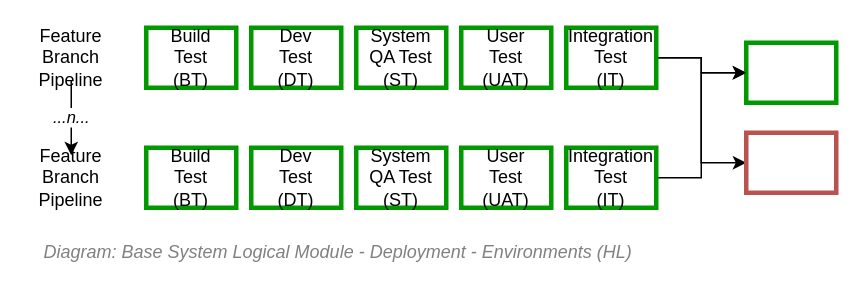
This 864x294 diagram has some shape labels left out. The centre of each missing label's shape, as x and y in pixels:
Production: the point at 790,162
Training: the point at 790,72
